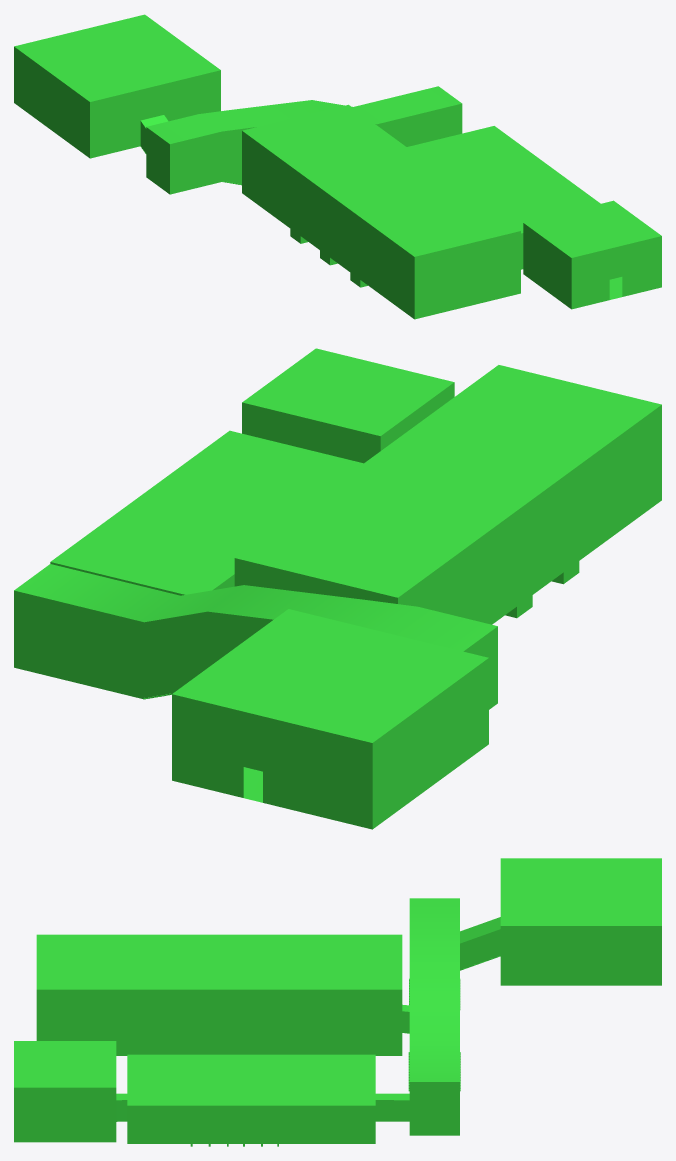
The model's file is Zone1_Map.fbx.
3 views of the same model, one above another, from view 1: azimuth 30°, elevation 25°; view 2: azimuth 150°, elevation 25°; view 3: azimuth 270°, elevation 25° (orthographic). The views are drawn at different scales.
Parts seen in each view (by area): view 1: Zone1MAP; view 2: Zone1MAP; view 3: Zone1MAP.
Boxes of the visible parts, x1,y1,x2,y2 form: Zone1MAP: (14, 14, 661, 319); Zone1MAP: (14, 348, 661, 829); Zone1MAP: (14, 858, 661, 1146).
Size of the model in its own units: 3898 by 1118 by 5973.
